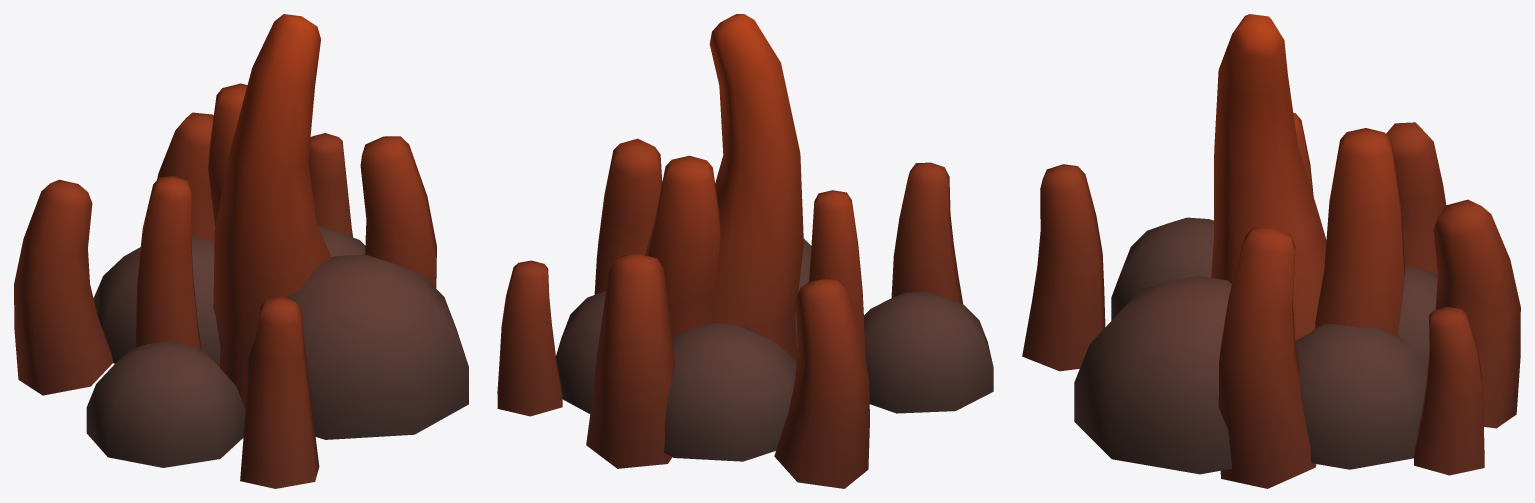
The model's file is Grass_004.glb.
The picture shows the model from 3 angles, left to right: view 1: azimuth 30°, elevation 25°; view 2: azimuth 150°, elevation 25°; view 3: azimuth 270°, elevation 25°; orthographic projection. The views are drawn at different scales.
Parts seen in each view (by area): view 1: Grass_004; view 2: Grass_004; view 3: Grass_004.
Part boxes in pixels (<box>): Grass_004: <box>14,14,468,488</box>; Grass_004: <box>497,14,993,488</box>; Grass_004: <box>1022,14,1520,488</box>.
Size of the model in its own units: 1.48 by 1.41 by 1.58.
Materials: 1 (1 with a texture image).
